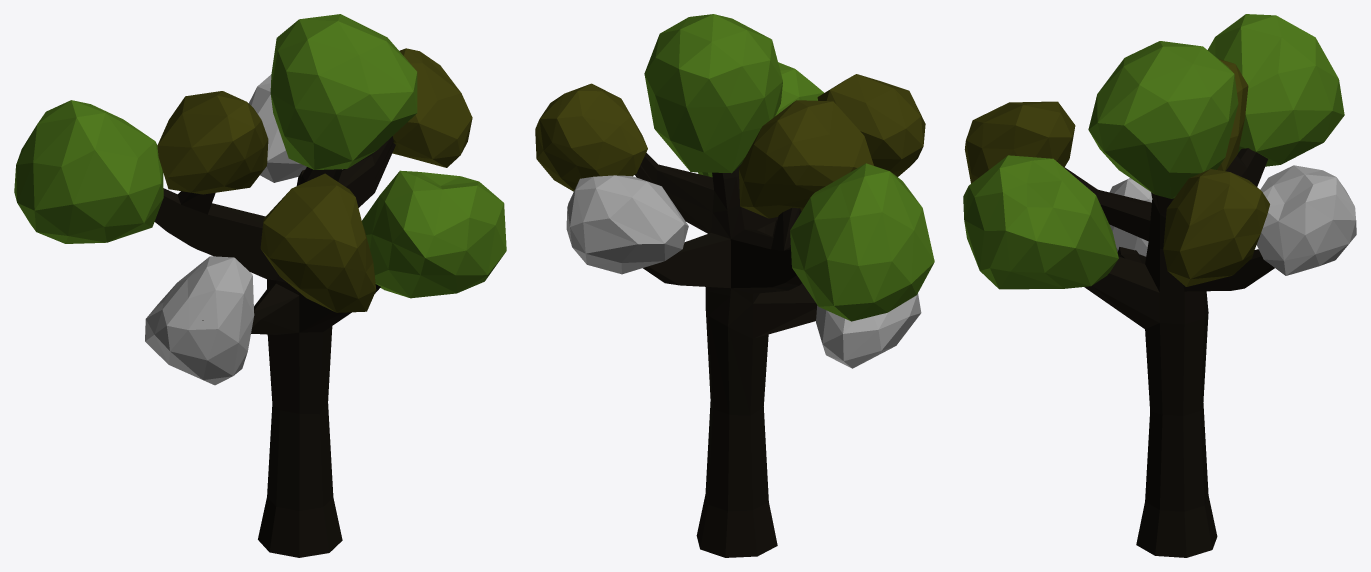
The model's file is tree1.fbx.
3 renders of one model, left to right at view 1: azimuth 30°, elevation 25°; view 2: azimuth 150°, elevation 25°; view 3: azimuth 270°, elevation 25°, orthographic.
Visible parts, largest first — view 1: default; view 2: default; view 3: default.
Boxes of the visible parts, x1,y1,x2,y2 form: default: (14,14,506,557); default: (535,14,934,557); default: (963,14,1356,557).
Size of the model in its own units: 32.26 by 39.18 by 27.47.
